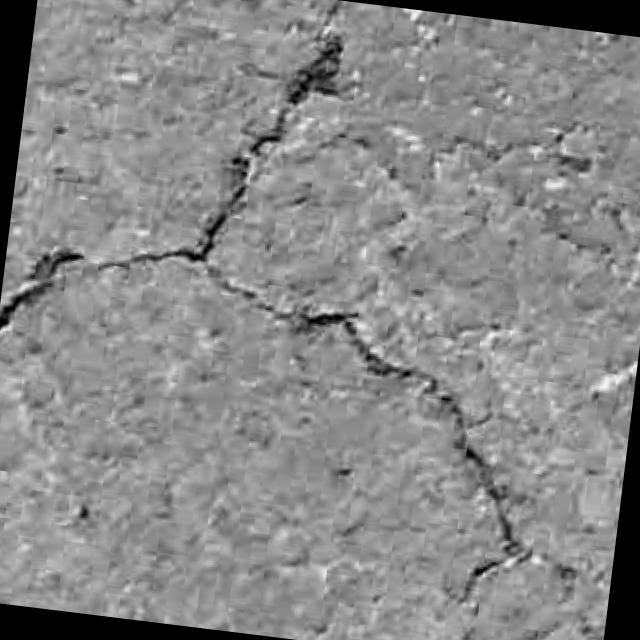crack: (0, 0, 343, 331), (220, 278, 515, 543), (0, 248, 83, 332), (285, 32, 344, 106), (462, 556, 510, 597)
